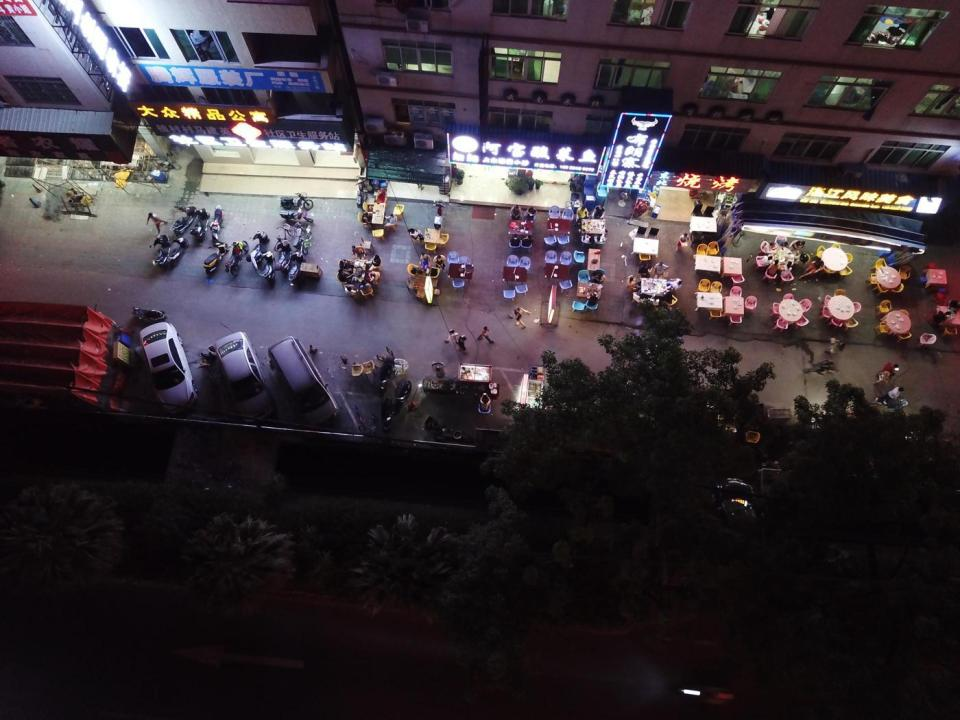car: (215, 332, 275, 422), (139, 322, 199, 412), (709, 477, 758, 549)
van: (268, 336, 340, 427)
